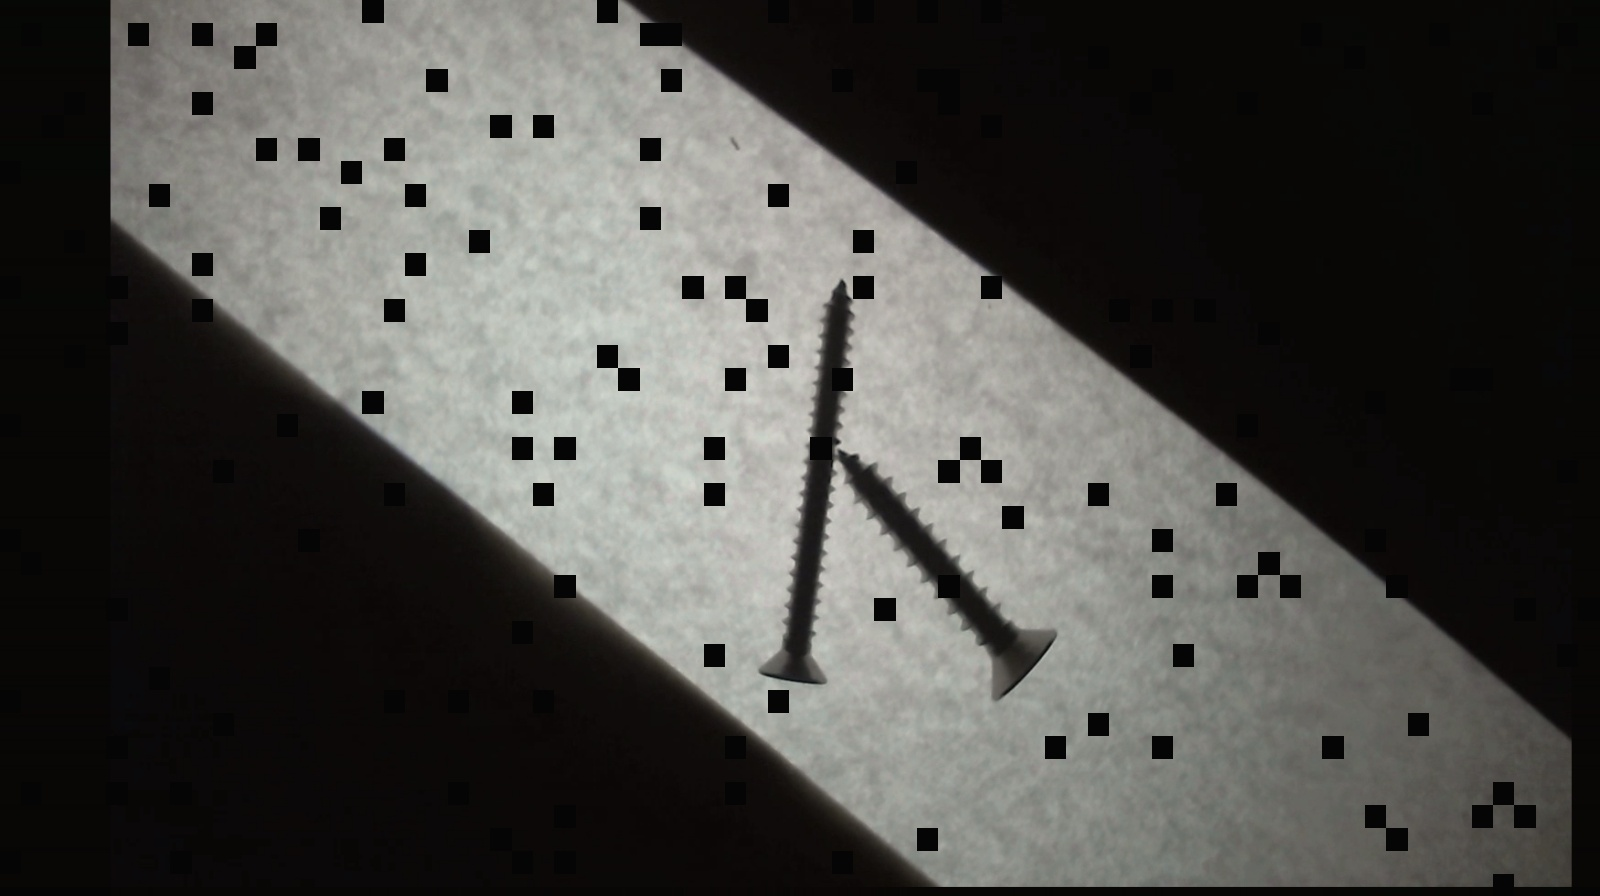S001: (833, 442, 1070, 706)
S002: (755, 272, 858, 688)
